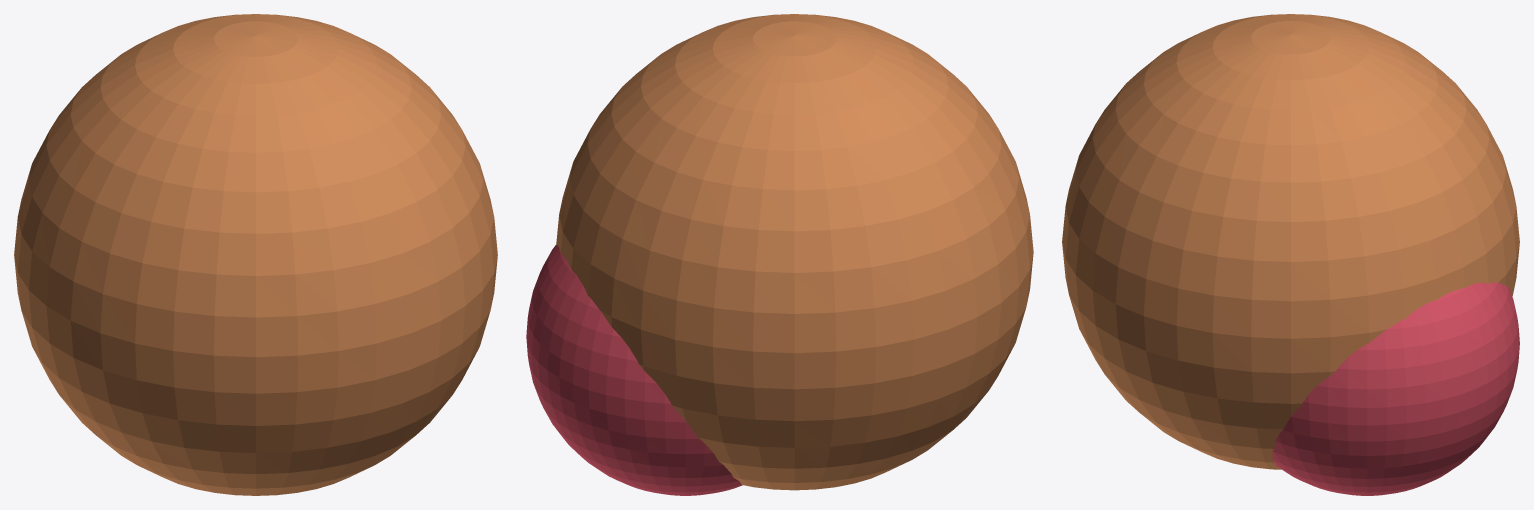
The model's file is fish_egg.glb.
The picture shows the model from 3 angles, left to right: view 1: azimuth 30°, elevation 25°; view 2: azimuth 150°, elevation 25°; view 3: azimuth 270°, elevation 25°; orthographic projection. The views are drawn at different scales.
Parts seen in each view (by area): view 1: Mesh_Mesh_head_geo.001_lambert2SG.001; view 2: Mesh_Mesh_head_geo.001_lambert2SG.001; view 3: Mesh_Mesh_head_geo.001_lambert2SG.001.
Part boxes in pixels (x1,y1,x2,y2): Mesh_Mesh_head_geo.001_lambert2SG.001: (14, 14, 497, 495); Mesh_Mesh_head_geo.001_lambert2SG.001: (526, 14, 1033, 495); Mesh_Mesh_head_geo.001_lambert2SG.001: (1062, 14, 1519, 495).
Size of the model in its own units: 6 by 6 by 6.
